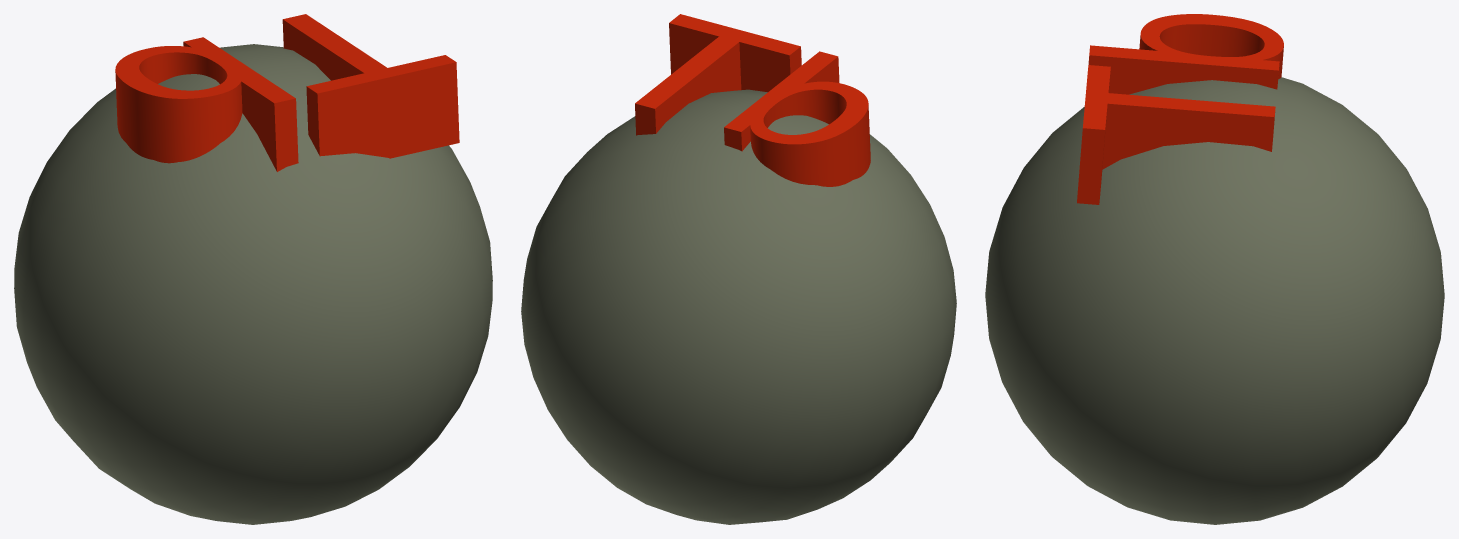
3 views of the same model, side by side, from view 1: azimuth 30°, elevation 25°; view 2: azimuth 150°, elevation 25°; view 3: azimuth 270°, elevation 25° (orthographic). The views are drawn at different scales.
Visible parts, largest first — view 1: Tb; view 2: Tb; view 3: Tb.
Part boxes in pixels (x1,y1,x2,y2): Tb: [14, 14, 492, 524]; Tb: [521, 14, 956, 524]; Tb: [985, 14, 1444, 524].
Bounding box in the file's own units: 38.72 × 40.73 × 38.72.
